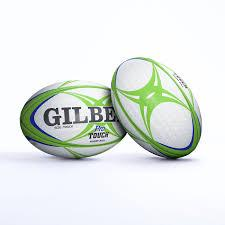ballon_rugby: (17, 80, 140, 160), (109, 57, 203, 159)
